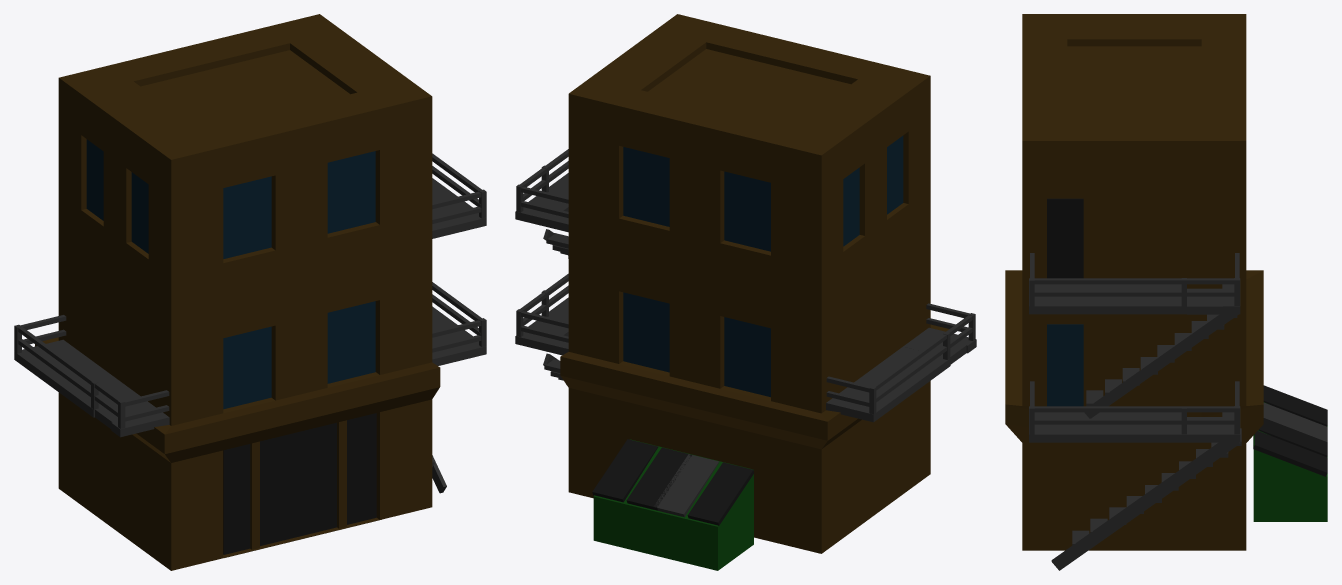
Rendered from BuildingA1 1.fbx.
3 renders of one model, left to right at view 1: azimuth 30°, elevation 25°; view 2: azimuth 150°, elevation 25°; view 3: azimuth 270°, elevation 25°, orthographic. The views are drawn at different scales.
Parts seen in each view (by area): view 1: Building, Porte, Fenêtres, Fenêtres.001, Patio.006, Fenêtres.004, Patio.003, Patio, Cube.045, Cube.044, Patio.007, Cube.048 (+1 smaller); view 2: Building, Poubelle, Fenêtres.003, Fenêtres.002, Patio.006, Fenêtres.004, Porte.004, Porte.001, Porte.003, Porte.002, Patio.004, Patio.001 (+3 smaller); view 3: Building, Poubelle, Patio.003, Patio, Porte.005, Porte.006, Cube.019, Cube.029, Porte.001, Porte.004, Porte.002, Porte.003 (+7 smaller).
Part boxes in pixels (bbox=[...]): Building: bbox=[35, 14, 440, 570]; Porte: bbox=[223, 413, 381, 557]; Fenêtres: bbox=[223, 301, 375, 409]; Fenêtres.001: bbox=[223, 151, 375, 258]; Patio.006: bbox=[14, 339, 140, 417]; Fenêtres.004: bbox=[86, 139, 148, 253]; Patio.003: bbox=[432, 178, 486, 238]; Patio: bbox=[432, 306, 486, 365]; Cube.045: bbox=[250, 441, 259, 549]; Cube.044: bbox=[337, 420, 346, 528]; Patio.007: bbox=[111, 412, 169, 437]; Cube.048: bbox=[18, 326, 95, 384]; Building: bbox=[560, 14, 949, 553]; Poubelle: bbox=[593, 439, 753, 570]; Fenêtres.003: bbox=[623, 292, 770, 397]; Fenêtres.002: bbox=[623, 147, 770, 251]; Patio.006: bbox=[826, 346, 950, 422]; Fenêtres.004: bbox=[843, 135, 903, 246]; Porte.004: bbox=[687, 462, 754, 525]; Porte.001: bbox=[592, 439, 658, 502]; Porte.003: bbox=[654, 454, 719, 517]; Porte.002: bbox=[626, 447, 691, 510]; Patio.004: bbox=[515, 207, 568, 232]; Patio.001: bbox=[515, 332, 568, 355]; Building: bbox=[1005, 14, 1263, 550]; Poubelle: bbox=[1253, 402, 1327, 521]; Patio.003: bbox=[1029, 278, 1186, 314]; Patio: bbox=[1029, 406, 1186, 442]; Porte.005: bbox=[1047, 324, 1083, 406]; Porte.006: bbox=[1047, 198, 1083, 278]; Cube.019: bbox=[1051, 442, 1240, 570]; Cube.029: bbox=[1084, 314, 1238, 418]; Porte.001: bbox=[1253, 431, 1327, 476]; Porte.004: bbox=[1263, 385, 1327, 426]; Porte.002: bbox=[1258, 418, 1327, 457]; Porte.003: bbox=[1263, 402, 1327, 441].
Bounding box in the file's own units: 2256 × 2442 × 1717.
